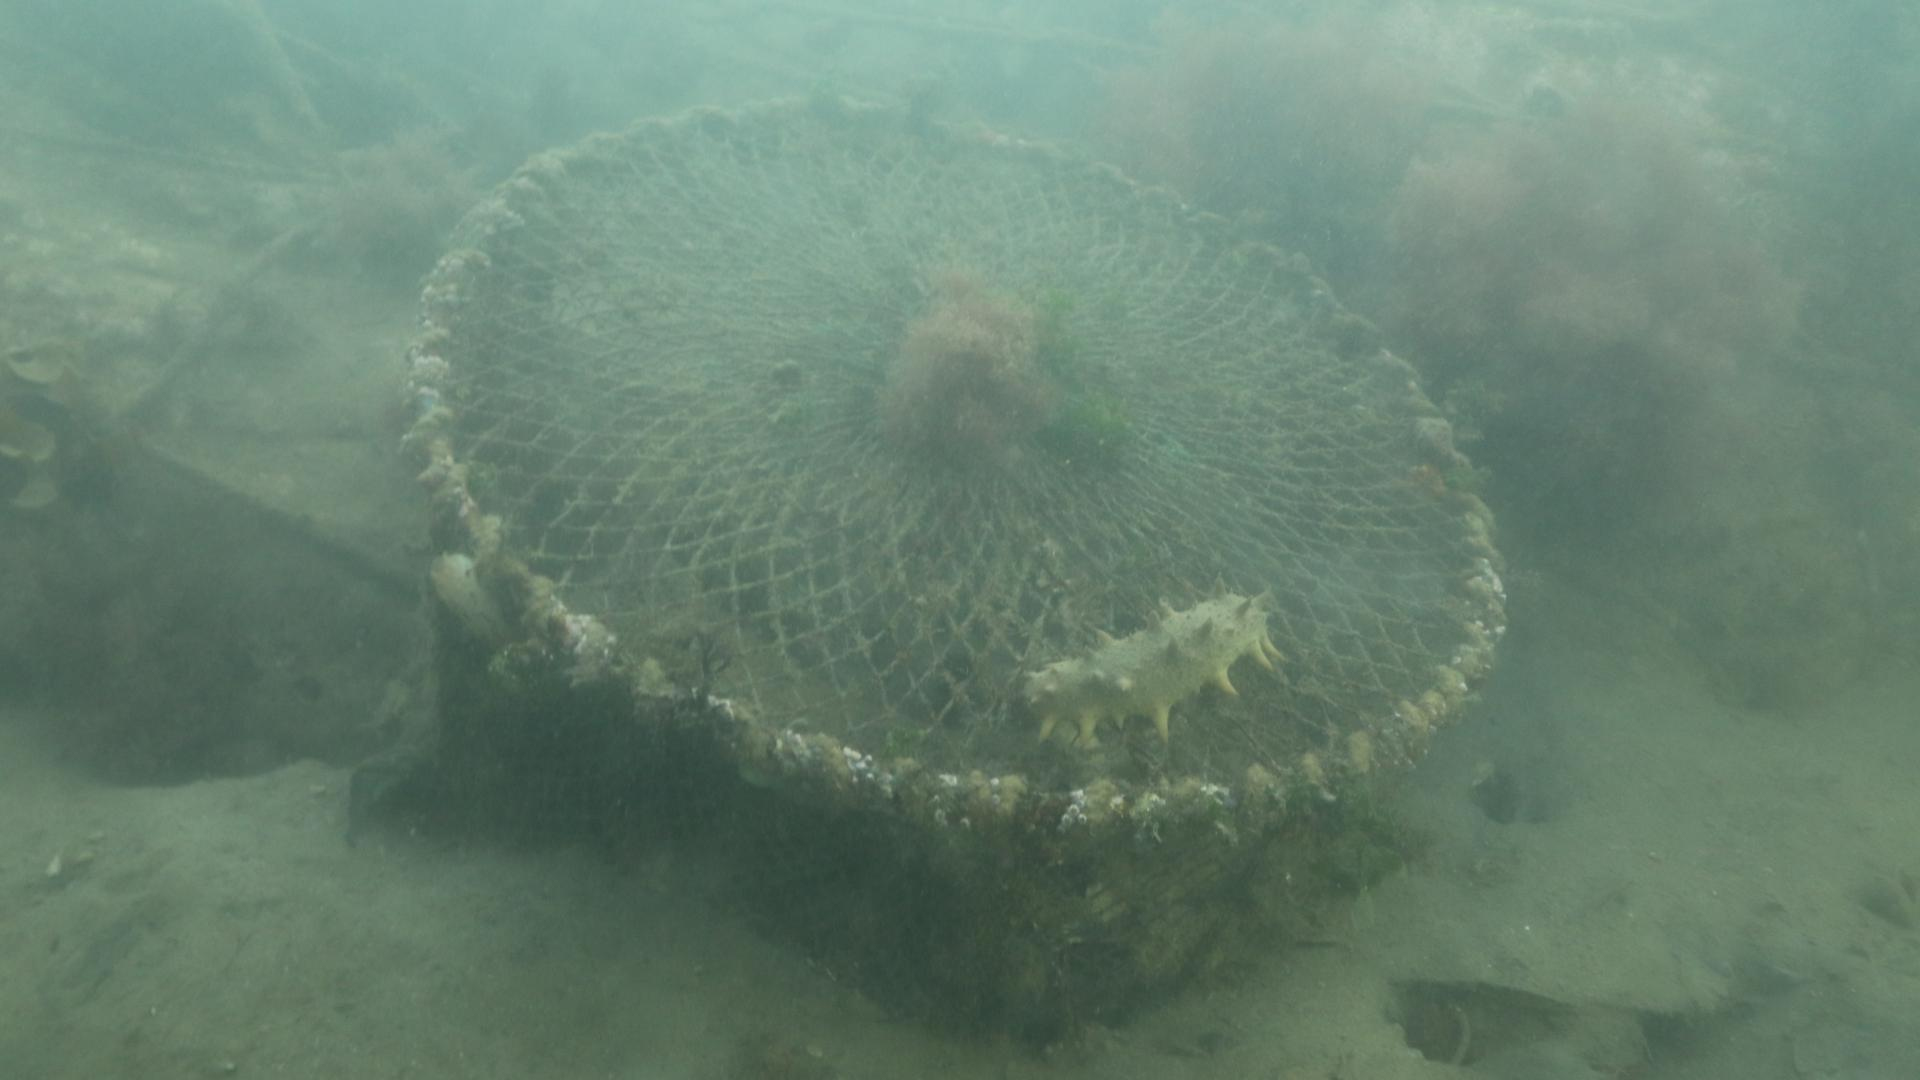circular fish trap: (401, 88, 1506, 1039)
